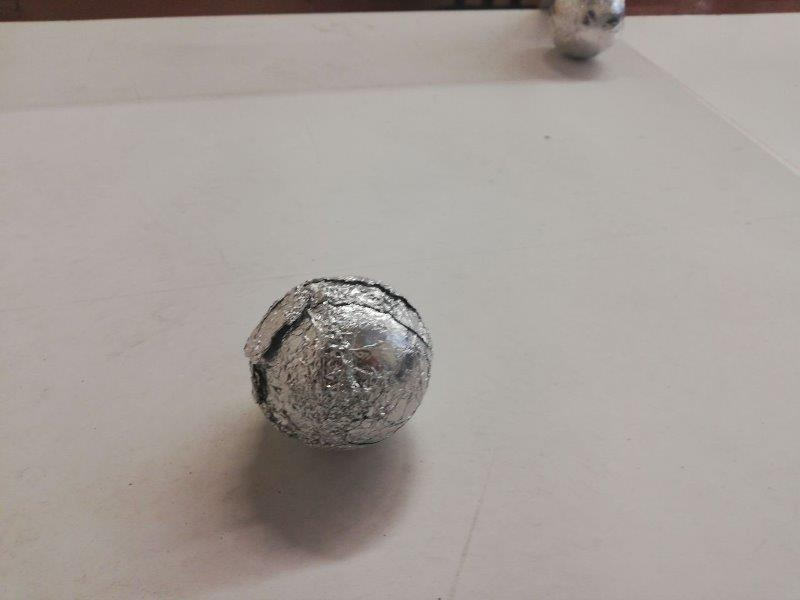bianca: (247, 277, 432, 451), (545, 3, 627, 58)
